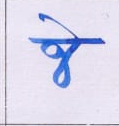e_matra: (38, 13, 84, 39)
